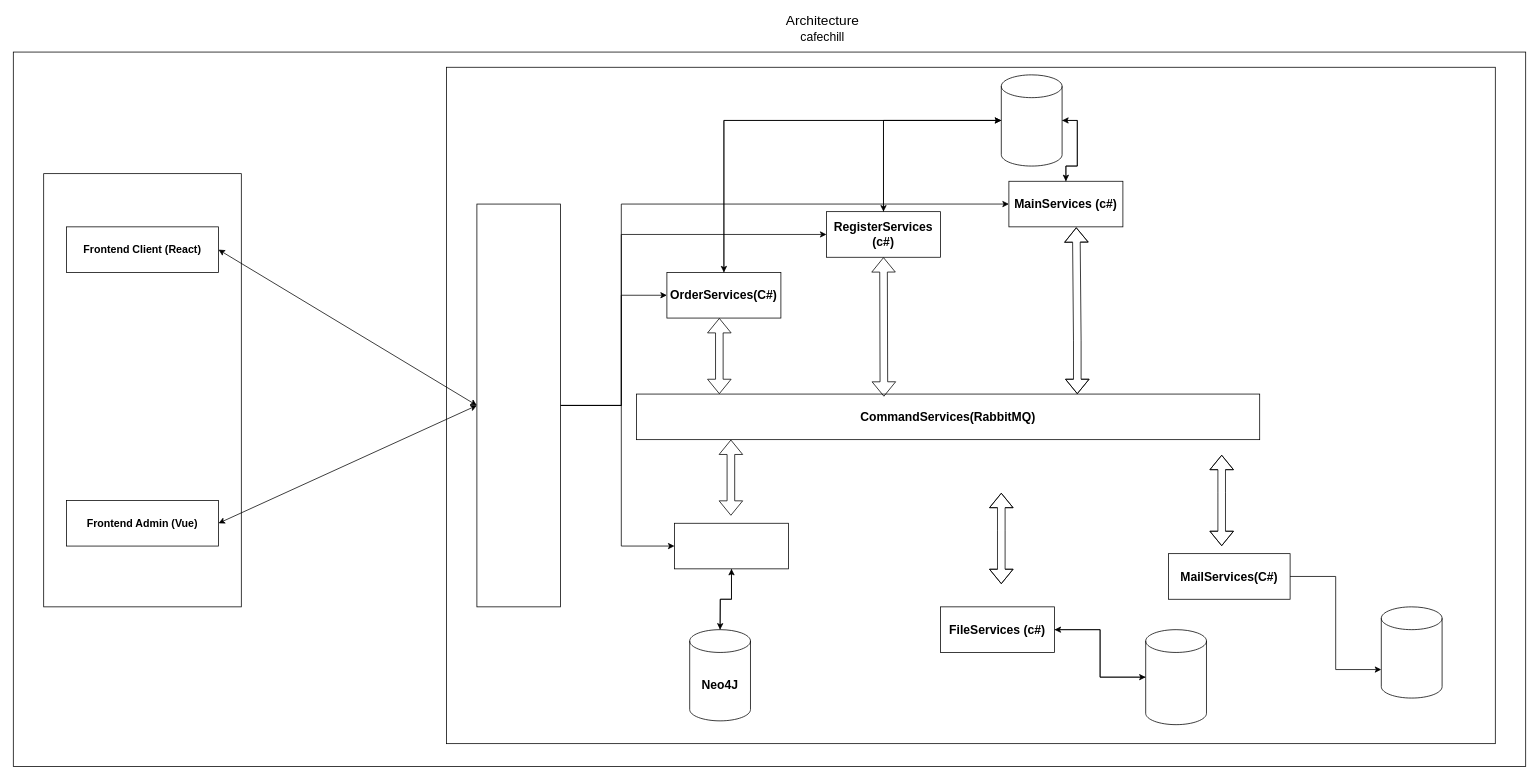
Image size: 1539x780. Some labels were removed from this diagram. Here are the shapes that lost their labels. From the top down, the box of each, then its label:
(1001, 74, 1062, 166): sqlserver
(476, 203, 560, 607): Load balancer ( NGINX)
(674, 522, 788, 569): SocialServices (nestjs)
(1381, 606, 1442, 698): Elasticsearch
(1145, 629, 1206, 725): MinIO
